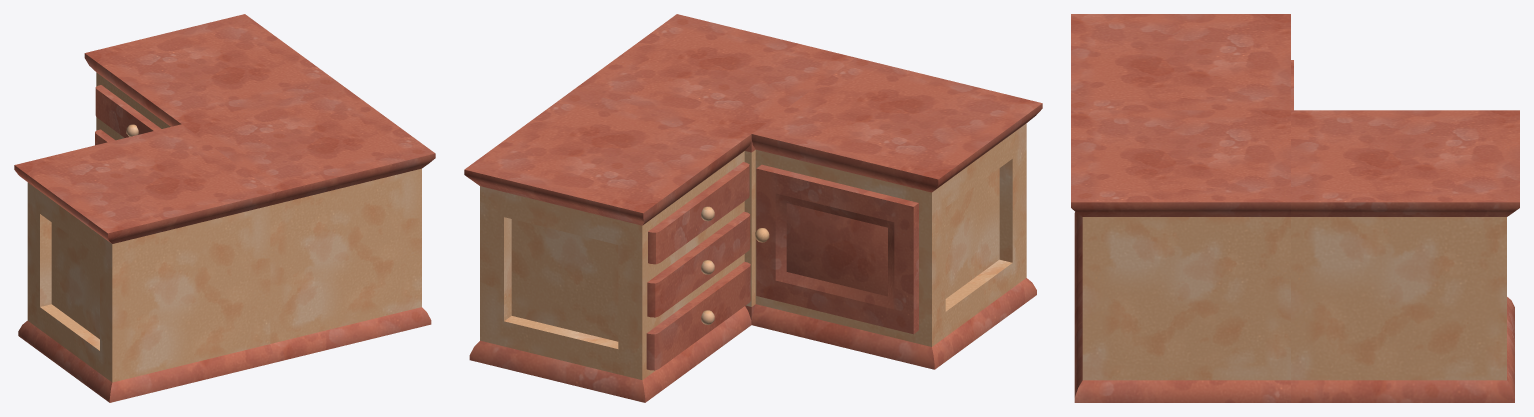
Rendered from SM_Corner_Dresser.fbx.
3 renders of one model, left to right at view 1: azimuth 30°, elevation 25°; view 2: azimuth 150°, elevation 25°; view 3: azimuth 270°, elevation 25°, orthographic. The views are drawn at different scales.
Parts seen in each view (by area): view 1: SM_Corner_Dresser; view 2: SM_Corner_Dresser; view 3: SM_Corner_Dresser.
Part boxes in pixels (x1=…): SM_Corner_Dresser: x1=14, y1=14, x2=435, y2=402; SM_Corner_Dresser: x1=464, y1=14, x2=1042, y2=402; SM_Corner_Dresser: x1=1071, y1=14, x2=1519, y2=402.
Bounding box in the file's own units: 199 × 99.41 × 200.
